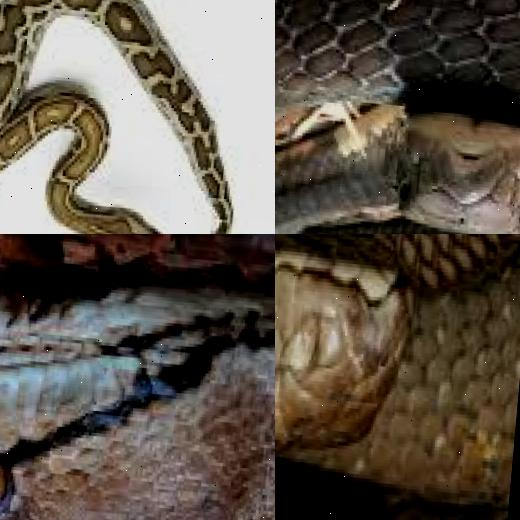3: (0, 235, 275, 520)
5: (275, 234, 520, 502), (275, 0, 520, 234)
snake: (0, 0, 275, 234)
